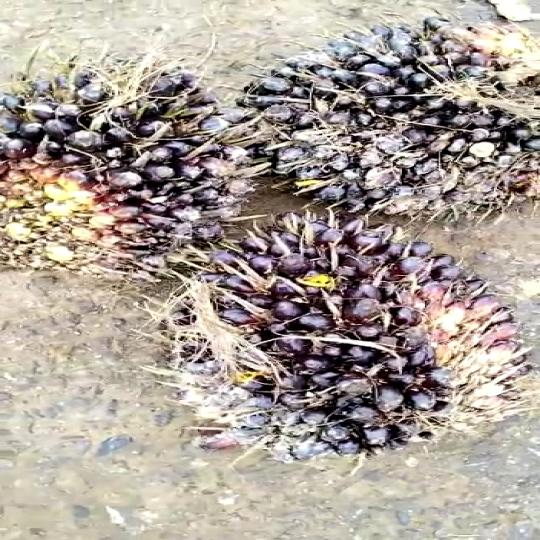mentah: (156, 219, 535, 448), (246, 26, 540, 231), (0, 55, 265, 281)
